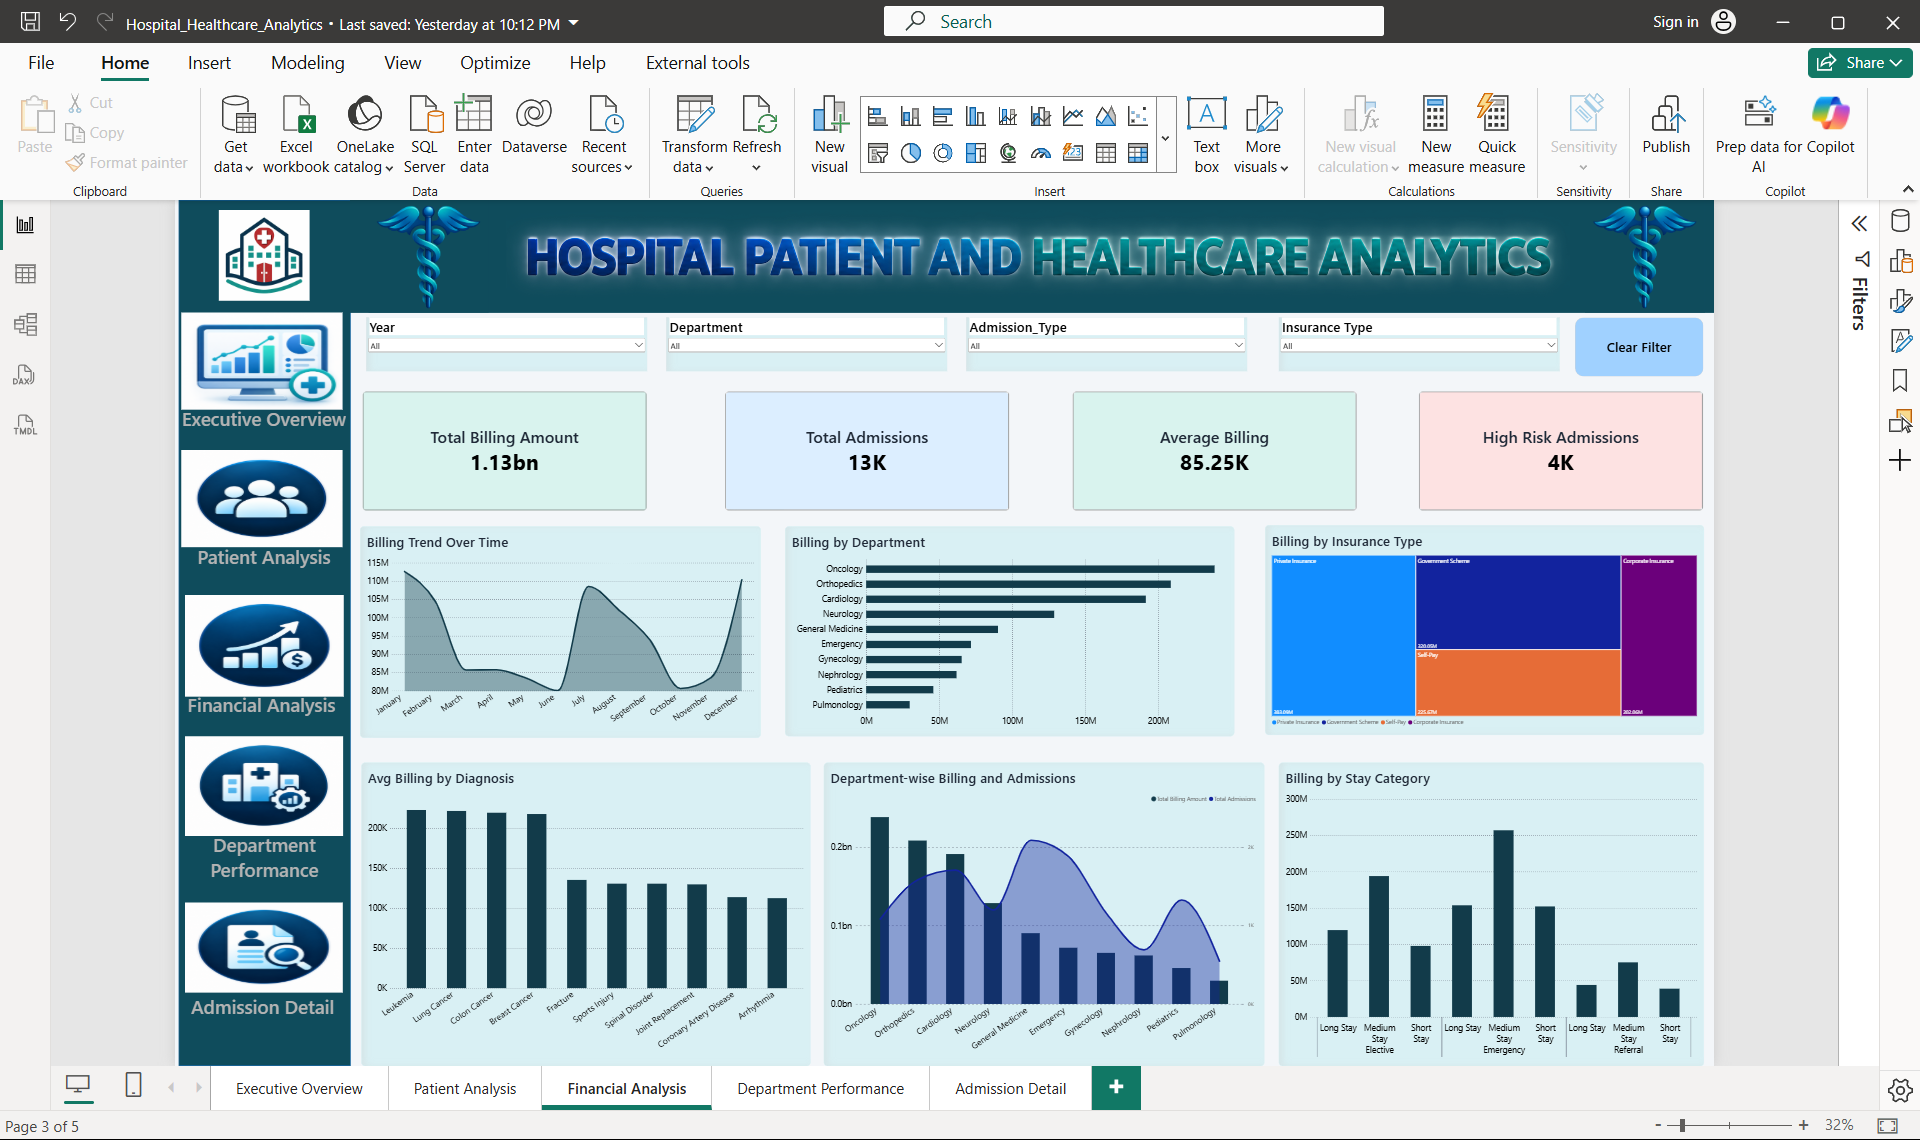

This screenshot's page, from the dashboard's own definition file:
{"tool":"powerbi","page":{"name":"Financial Analysis","canvas":[3840,2160],"ordinal":2},"visuals":[{"type":"image","box":[15.9,281.3,402.5,242.4],"z":0,"group":"g1"},{"type":"cardVisual","title":"Total Revenue","fields":{"Data":["hospital_admissions_cleaned.Total Billing Amount"]},"box":[467.5,476.1,709.8,298.7],"z":0},{"type":"image","box":[15.9,622.1,402.5,242.4],"z":0,"group":"g2"},{"type":"image","box":[23,986.4,396.1,253.4],"z":0,"group":"g3"},{"type":"image","box":[26,1338.4,394.4,248.6],"z":0,"group":"g4"},{"type":"image","box":[26,1751.9,393.9,225.1],"z":0,"group":"g5"},{"type":"actionButton","box":[4.3,282.5,437.2,303],"z":1000,"group":"g1"},{"type":"cardVisual","title":"Total Revenue","fields":{"Data":["hospital_admissions_cleaned.Average Billing"]},"box":[2237.7,476.1,709.8,298.7],"z":1000},{"type":"actionButton","box":[4.3,623.3,437.2,303],"z":1000,"group":"g2"},{"type":"actionButton","box":[-4.3,982.5,437.2,316],"z":1000,"group":"g3"},{"type":"actionButton","box":[0,1320.1,445.8,389.5],"z":1000,"group":"g4"},{"type":"actionButton","box":[0,1731.3,437.2,320.3],"z":1000,"group":"g5"},{"type":"cardVisual","title":"Total Revenue","fields":{"Data":["hospital_admissions_cleaned.Total Admissions"]},"box":[1372.1,476.1,709.8,298.7],"z":2000},{"type":"cardVisual","title":"Total Revenue","fields":{"Data":["hospital_admissions_cleaned.High Risk Admissions"]},"box":[3103.4,476.1,709.8,298.7],"z":3000},{"type":"clusteredColumnChart","title":"Billing by Stay Category","fields":{"Y":["hospital_admissions_cleaned.Total Billing Amount"],"Category":["hospital_admissions_cleaned.admission_type","hospital_admissions_cleaned.stay_category"]},"box":[2752.8,1402.4,1060.4,757.4],"z":4000},{"type":"lineClusteredColumnComboChart","title":"Department-wise Billing and Admissions","fields":{"Category":["hospital_admissions_cleaned.department"],"Y":["hospital_admissions_cleaned.Total Billing Amount"],"Y2":["hospital_admissions_cleaned.Total Admissions"]},"box":[1618.8,1402.4,1099.4,757.4],"z":5000},{"type":"treemap","title":"Billing by Insurance Type","fields":{"Values":["hospital_admissions_cleaned.Total Billing Amount"],"Group":["hospital_admissions_cleaned.insurance_type"]},"box":[2718.2,809.4,1095.1,523.7],"z":6000},{"type":"clusteredBarChart","title":"Billing by Department","fields":{"Category":["hospital_admissions_cleaned.department"],"Y":["hospital_admissions_cleaned.Total Billing Amount"]},"box":[1520.7,813.6,1121,523.7],"z":7000},{"type":"columnChart","title":"Avg Billing by Diagnosis","fields":{"Category":["hospital_admissions_cleaned.diagnosis"],"Y":["hospital_admissions_cleaned.Average Billing"]},"box":[463.1,1402.4,1121,757.4],"z":8000},{"type":"lineChart","title":"Billing Trend Over Time","fields":{"Category":["hospital_admissions_cleaned.admission_date.Variation.Date Hierarchy.Month"],"Y":["hospital_admissions_cleaned.Total Billing Amount"]},"box":[461.9,813.6,999.8,528.1],"z":9000},{"type":"shape","box":[8.7,0,428.5,2159.8],"z":10000},{"type":"textbox","box":[437.2,0,3402,281.3],"z":11000},{"type":"slicer","fields":{"Values":["hospital_admissions_cleaned.admission_date.Variation.Date Hierarchy.Year"]},"box":[476.1,294.3,701.2,134.2],"z":12000},{"type":"slicer","fields":{"Values":["hospital_admissions_cleaned.department"]},"box":[1224.9,294.3,701.2,134.2],"z":13000},{"type":"slicer","fields":{"Values":["hospital_admissions_cleaned.admission_type"]},"box":[1973.7,294.3,701.2,134.2],"z":14000},{"type":"slicer","fields":{"Values":["hospital_admissions_cleaned.insurance_type"]},"box":[2753,283.7,701.2,134.2],"z":15000},{"type":"actionButton","box":[3492.9,294.3,320.3,147.2],"z":16000},{"type":"group","id":"g1","title":"Group 1","box":[4.3,281.3,437.2,303],"z":17000},{"type":"group","id":"g2","title":"Group 2","box":[4.3,622.1,437.2,304.2],"z":18000},{"type":"group","id":"g3","title":"Group 3","box":[-4.3,982.5,437.2,316],"z":19000},{"type":"group","id":"g4","title":"Group 4","box":[0,1320.1,445.8,389.5],"z":20000},{"type":"group","id":"g5","title":"Group 5","box":[0,1731.3,437.2,320.3],"z":21000},{"type":"image","box":[71.9,25.2,302,226.5],"z":22000},{"type":"image","box":[827,25.2,2653.5,226.5],"z":22001},{"type":"image","box":[481.8,0,298.4,280.4],"z":22002},{"type":"image","box":[3516.4,0,298.4,280.4],"z":22003}]}

Visuals, with their boxes on the page's 3840x2160 design canvas (x1, y1, x2, y2). These are canvas units, not pixel positions in the 1920x1140 screenshot, which may show the page scaled, cropped or inside an application window:
image: [left=16, top=281, right=418, bottom=524]
"Total Revenue" cardVisual: [left=468, top=476, right=1177, bottom=775]
image: [left=16, top=622, right=418, bottom=864]
image: [left=23, top=986, right=419, bottom=1240]
image: [left=26, top=1338, right=420, bottom=1587]
image: [left=26, top=1752, right=420, bottom=1977]
actionButton: [left=4, top=282, right=442, bottom=586]
"Total Revenue" cardVisual: [left=2238, top=476, right=2948, bottom=775]
actionButton: [left=4, top=623, right=442, bottom=926]
actionButton: [left=-4, top=982, right=433, bottom=1298]
actionButton: [left=0, top=1320, right=446, bottom=1710]
actionButton: [left=0, top=1731, right=437, bottom=2052]
"Total Revenue" cardVisual: [left=1372, top=476, right=2082, bottom=775]
"Total Revenue" cardVisual: [left=3103, top=476, right=3813, bottom=775]
"Billing by Stay Category" clusteredColumnChart: [left=2753, top=1402, right=3813, bottom=2160]
"Department-wise Billing and Admissions" lineClusteredColumnComboChart: [left=1619, top=1402, right=2718, bottom=2160]
"Billing by Insurance Type" treemap: [left=2718, top=809, right=3813, bottom=1333]
"Billing by Department" clusteredBarChart: [left=1521, top=814, right=2642, bottom=1337]
"Avg Billing by Diagnosis" columnChart: [left=463, top=1402, right=1584, bottom=2160]
"Billing Trend Over Time" lineChart: [left=462, top=814, right=1462, bottom=1342]
shape: [left=9, top=0, right=437, bottom=2160]
textbox: [left=437, top=0, right=3839, bottom=281]
slicer - hospital_admissions_cleaned.admission_date.Variation.Date Hierarchy.Year: [left=476, top=294, right=1177, bottom=428]
slicer - hospital_admissions_cleaned.department: [left=1225, top=294, right=1926, bottom=428]
slicer - hospital_admissions_cleaned.admission_type: [left=1974, top=294, right=2675, bottom=428]
slicer - hospital_admissions_cleaned.insurance_type: [left=2753, top=284, right=3454, bottom=418]
actionButton: [left=3493, top=294, right=3813, bottom=442]
"Group 1" group: [left=4, top=281, right=442, bottom=584]
"Group 2" group: [left=4, top=622, right=442, bottom=926]
"Group 3" group: [left=-4, top=982, right=433, bottom=1298]
"Group 4" group: [left=0, top=1320, right=446, bottom=1710]
"Group 5" group: [left=0, top=1731, right=437, bottom=2052]
image: [left=72, top=25, right=374, bottom=252]
image: [left=827, top=25, right=3480, bottom=252]
image: [left=482, top=0, right=780, bottom=280]
image: [left=3516, top=0, right=3815, bottom=280]
